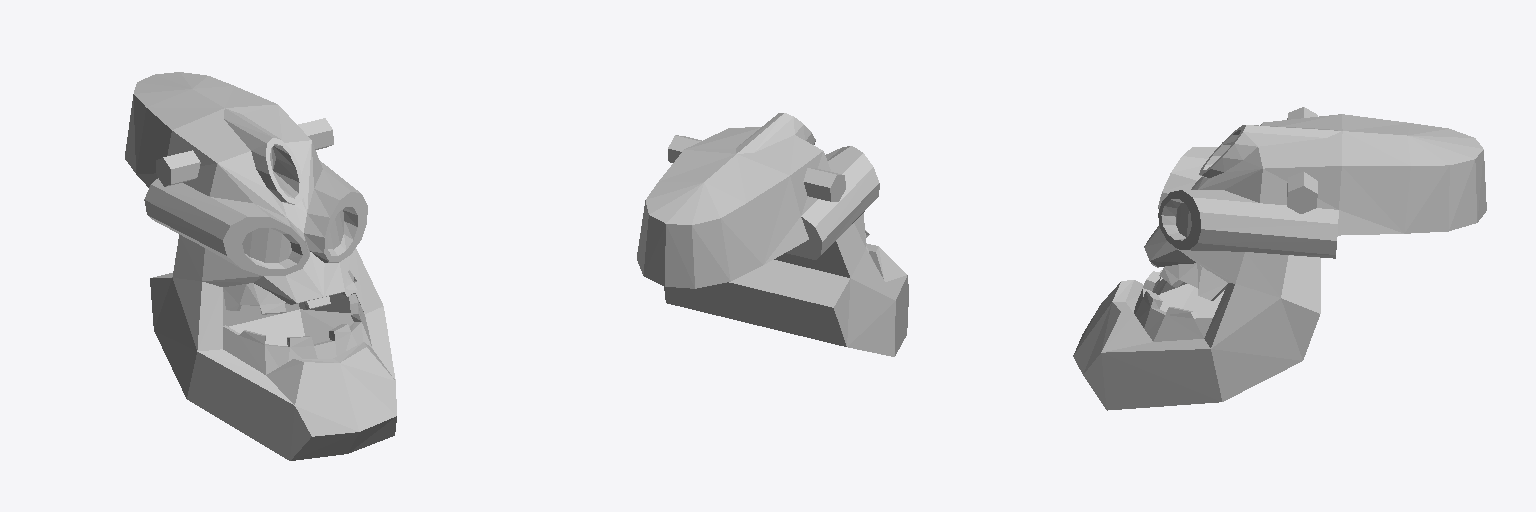
Rendered from piraka head.obj.
3 renders of one model, left to right at view 1: azimuth 30°, elevation 25°; view 2: azimuth 150°, elevation 25°; view 3: azimuth 270°, elevation 25°, orthographic.
Parts seen in each view (by area): view 1: Reidak.reidak.smd.mesh_1.004; view 2: Reidak.reidak.smd.mesh_1.004; view 3: Reidak.reidak.smd.mesh_1.004.
Part boxes in pixels (bbox=[...]): Reidak.reidak.smd.mesh_1.004: bbox=[125, 72, 396, 460]; Reidak.reidak.smd.mesh_1.004: bbox=[637, 113, 908, 356]; Reidak.reidak.smd.mesh_1.004: bbox=[1073, 107, 1486, 410].
Size of the model in its own units: 2.71 by 3.47 by 4.96.